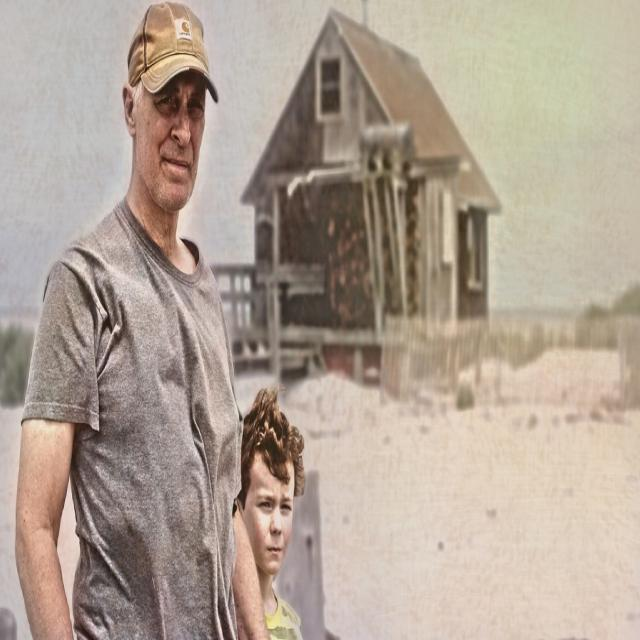Hat: (126, 0, 218, 104)
